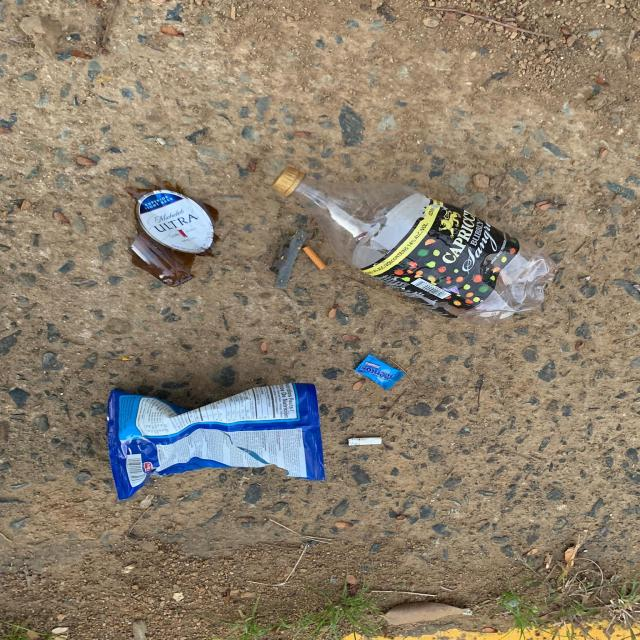litter: (273, 167, 558, 328), (119, 382, 320, 507), (125, 180, 221, 287), (270, 232, 308, 287), (355, 356, 404, 389), (303, 246, 324, 269), (348, 438, 383, 446)
